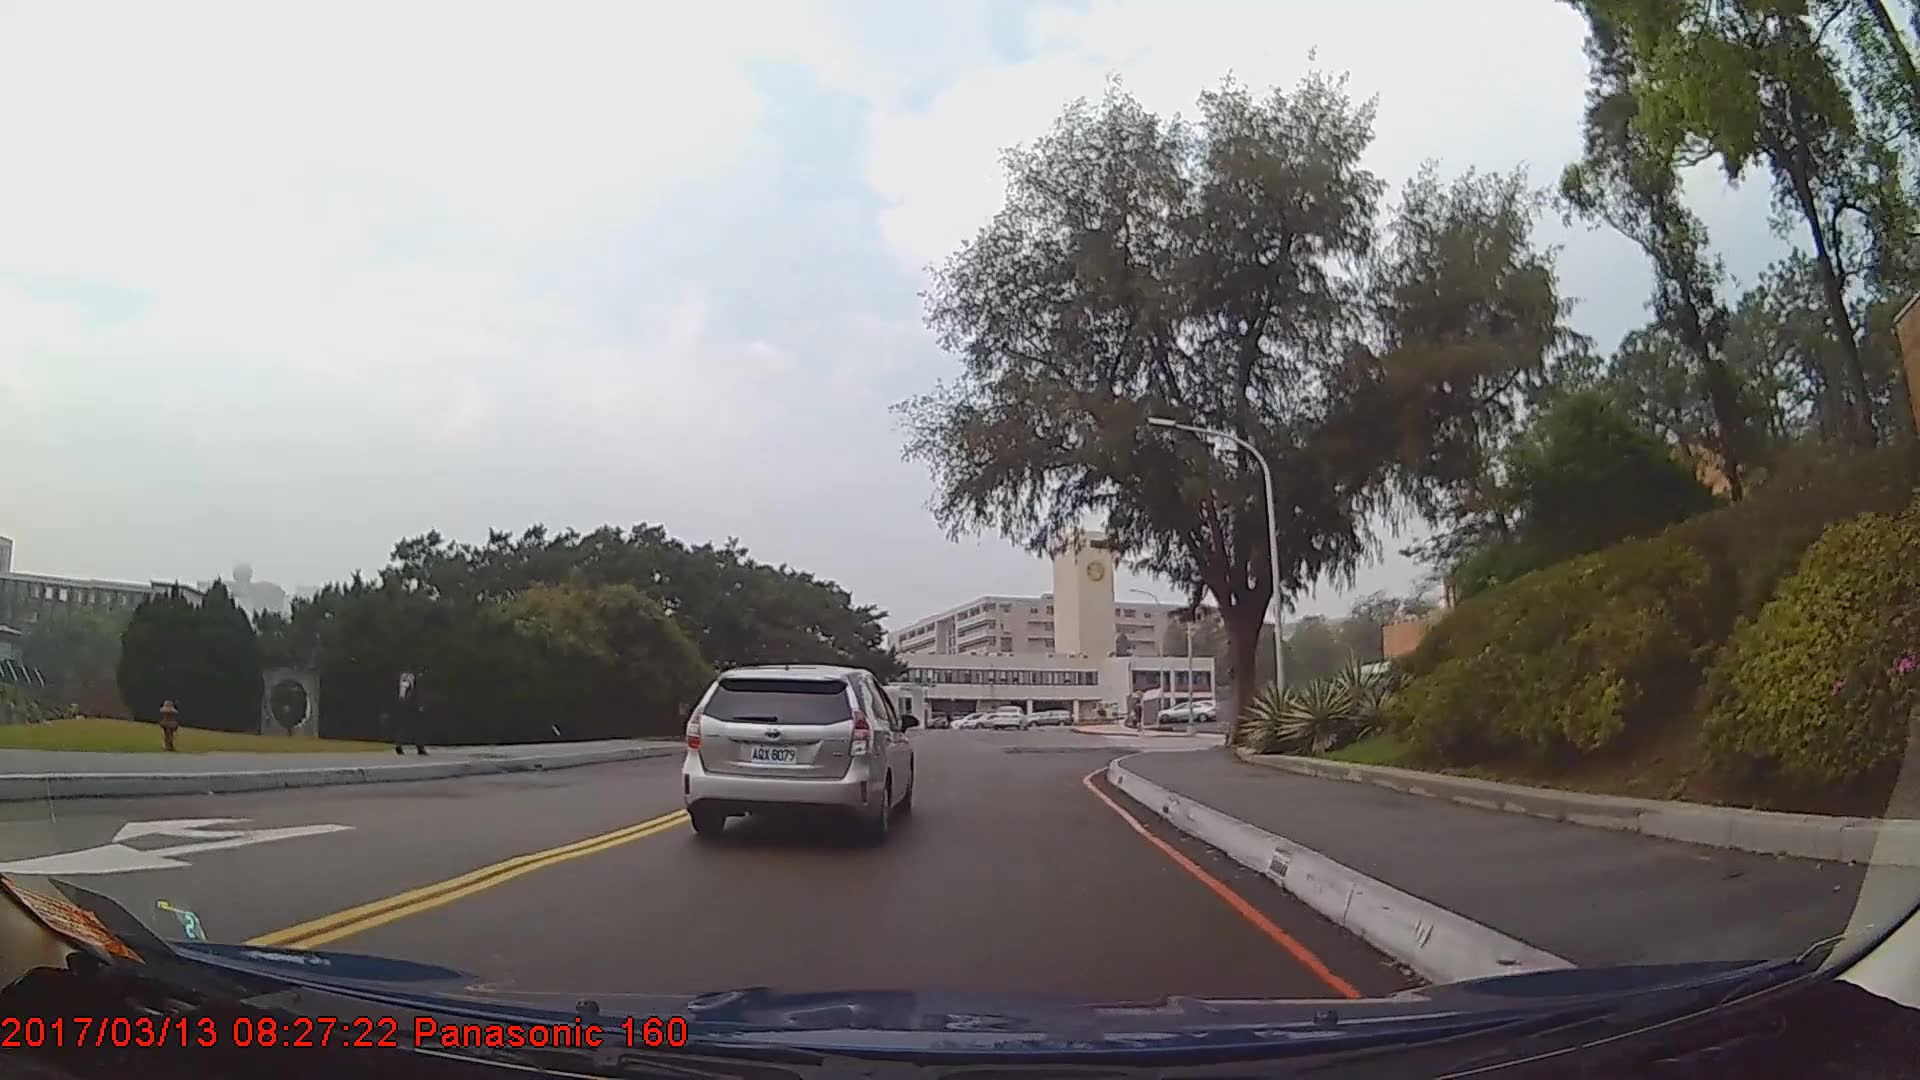pedestrian: (381, 648, 431, 756)
vehicle: (684, 660, 913, 849), (1154, 700, 1214, 722), (986, 701, 1026, 728)
